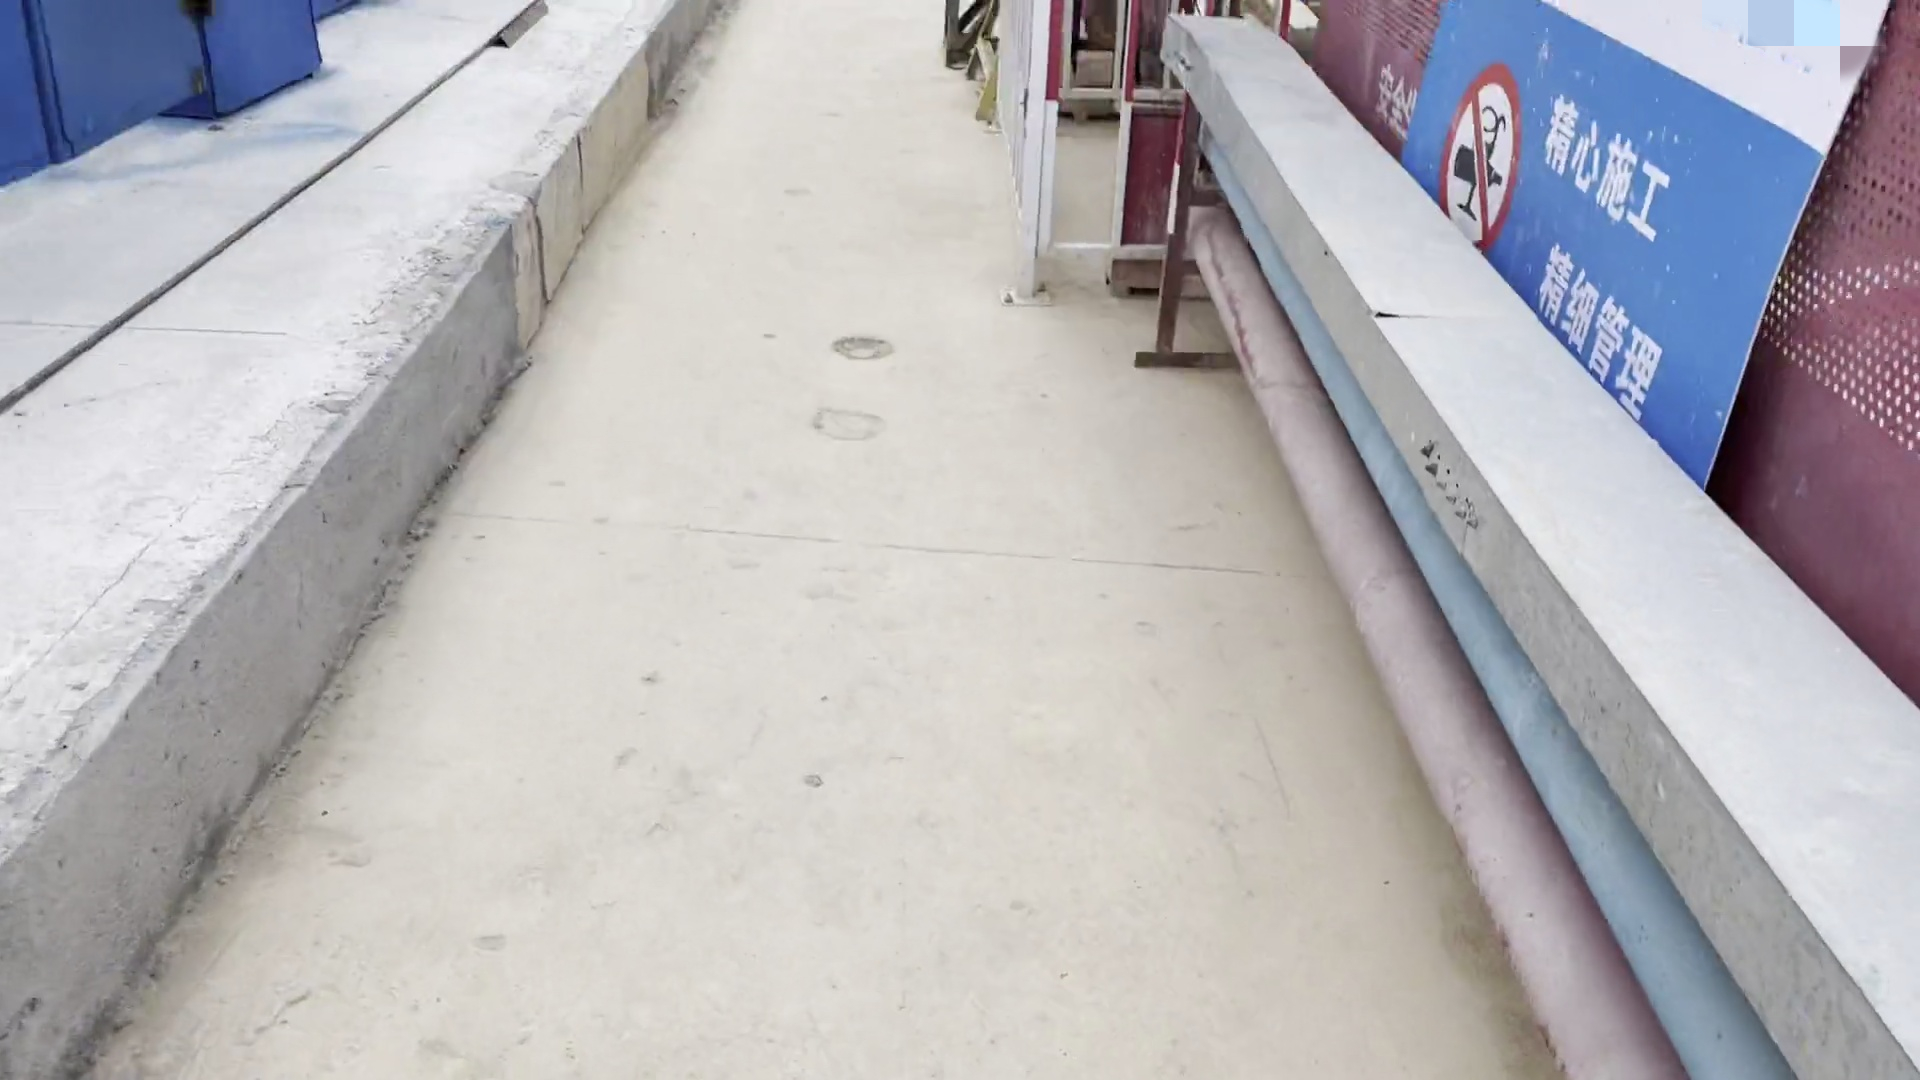fence: (1305, 1, 1920, 715)
slogan: (1352, 3, 1920, 527)
